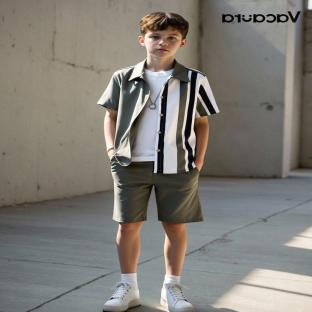Human: (98, 12, 219, 312)
